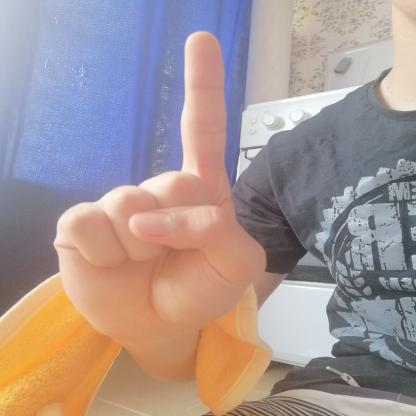BAA: (32, 13, 277, 359)
